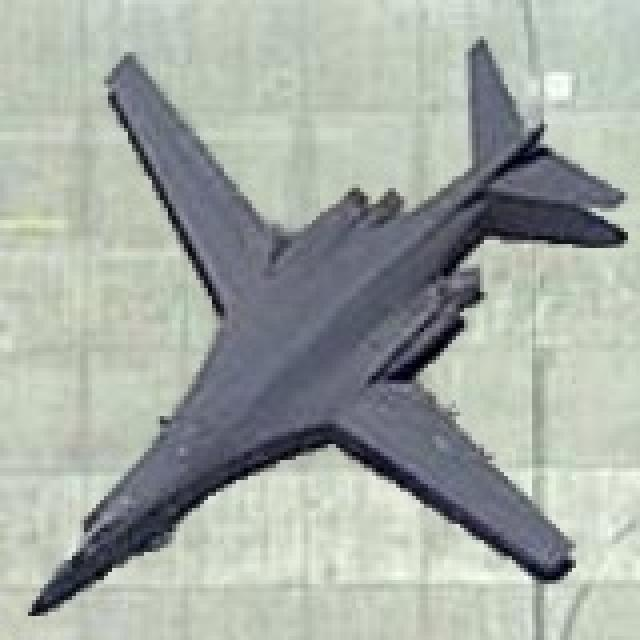B-1_TopDown: (24, 32, 628, 616)
